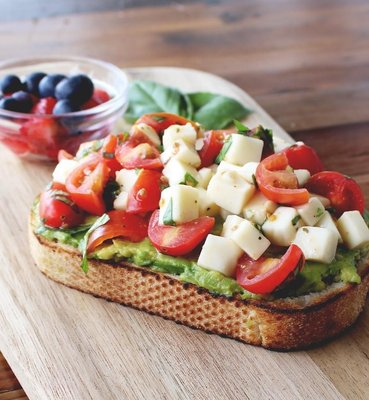sushi: (0, 56, 130, 162)
